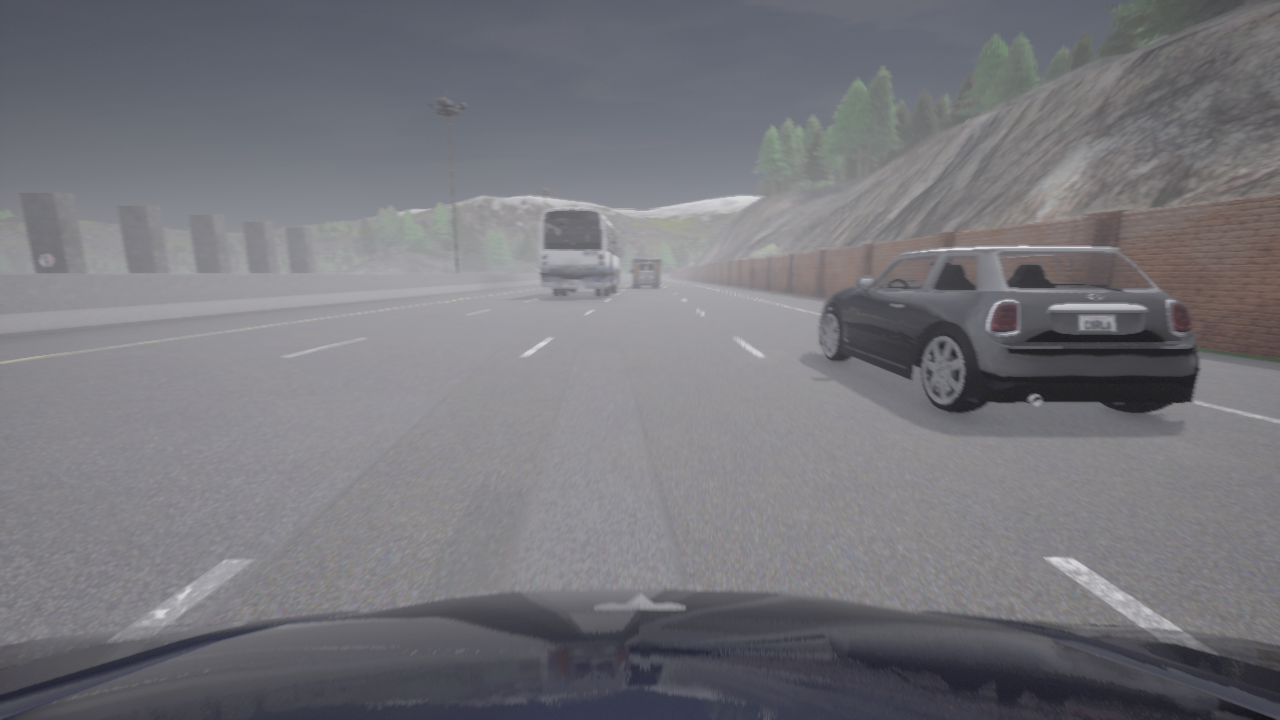cyclist: (0, 588, 1279, 719), (818, 245, 1199, 412), (539, 207, 622, 296), (631, 258, 660, 287)
